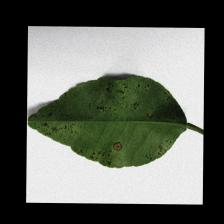canker: (86, 74, 144, 116)
